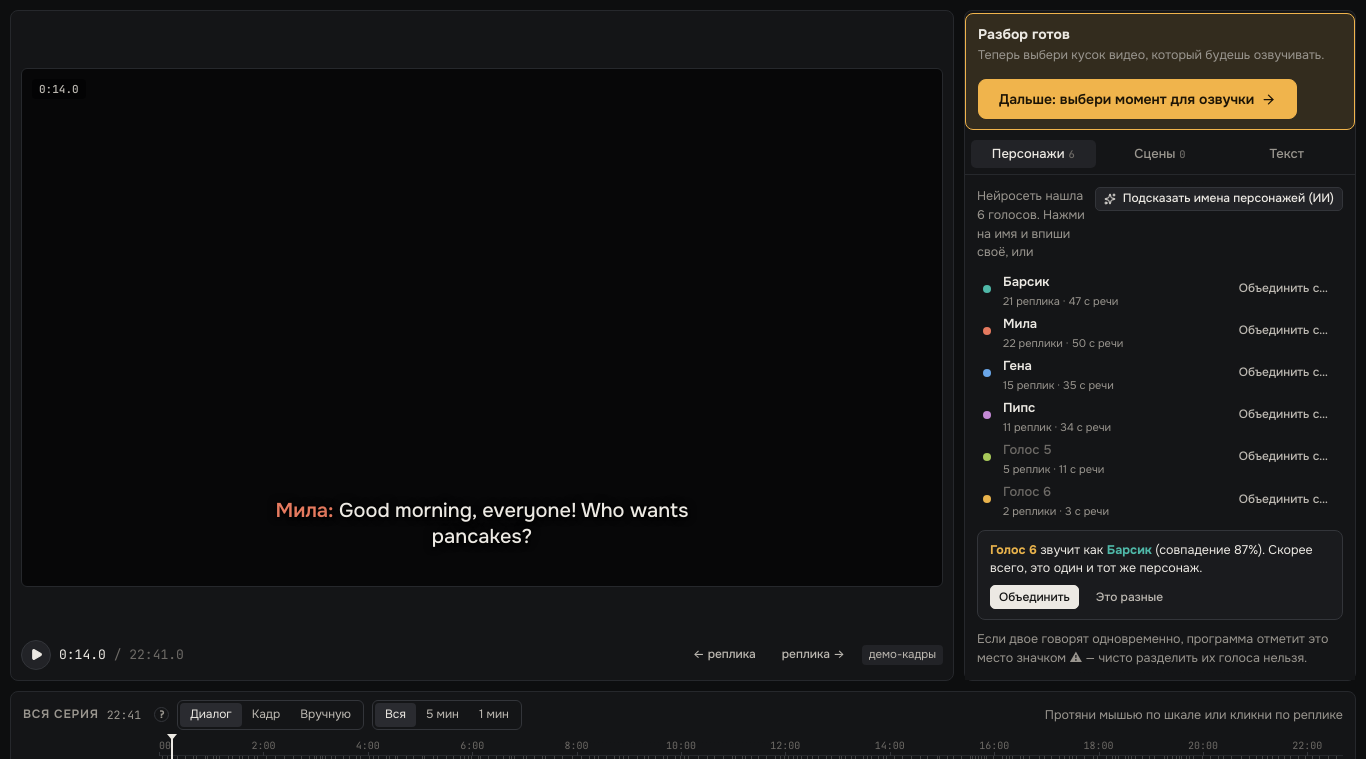
распознавание речи: язык по речи и GigaAM › язык совпал с меткой — фразы нет; во вкладке «Текст» серым — чем распознано
The image size is (1366, 759).
Click the tab "Текст".
click(1287, 154)  # box [1224,140,1349,168]
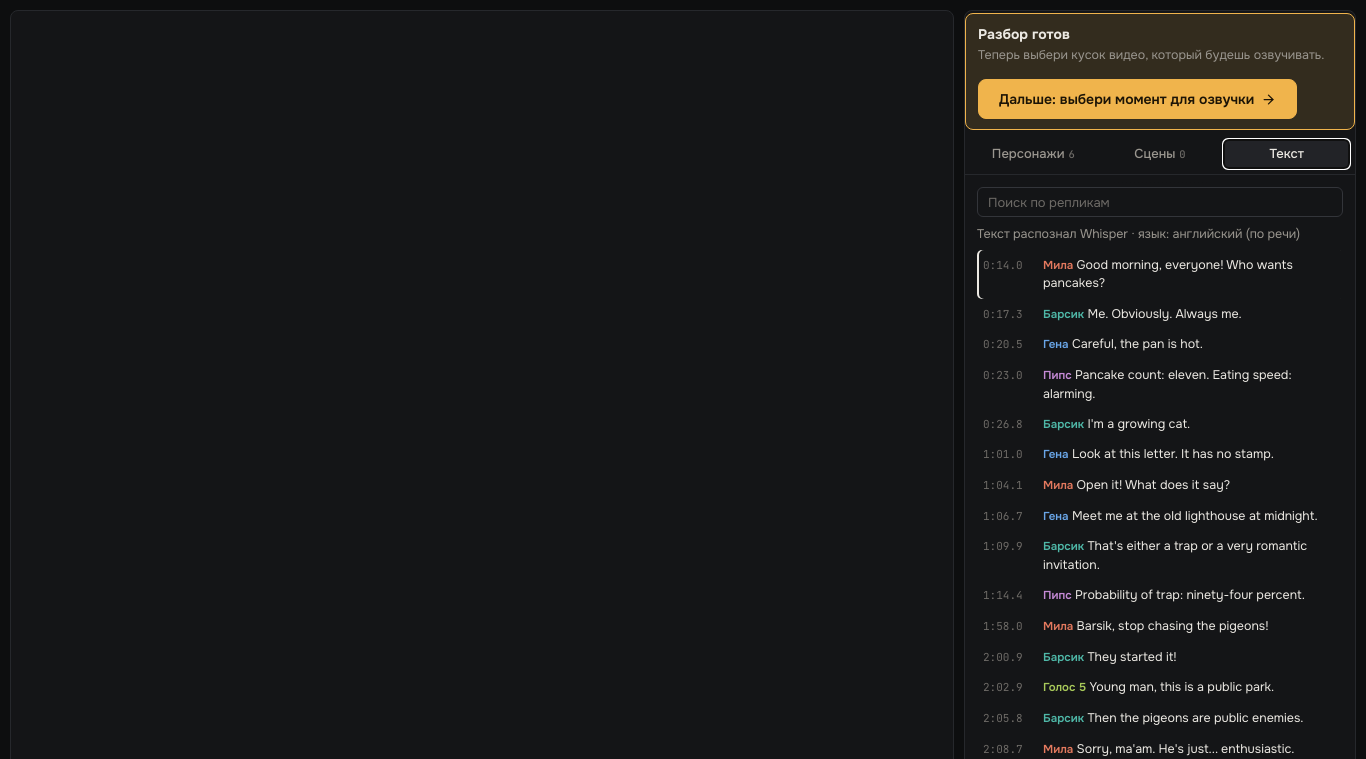
Expected: the text with test id "asr-summary" reads "Текст распознал Whisper · язык: английский (по речи)", [977,226,1300,242]
